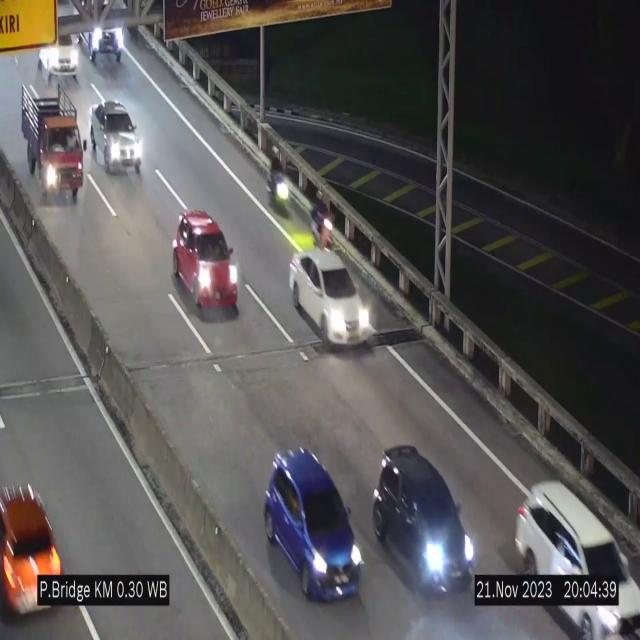Car: (509, 464, 640, 640), (372, 446, 476, 591), (264, 449, 362, 599), (0, 495, 65, 624), (289, 248, 373, 347), (173, 209, 240, 317), (89, 101, 141, 177), (79, 0, 133, 67), (37, 26, 81, 85)
Motorcycle: (266, 144, 290, 220), (309, 185, 335, 249)
Truck: (20, 86, 86, 202)
